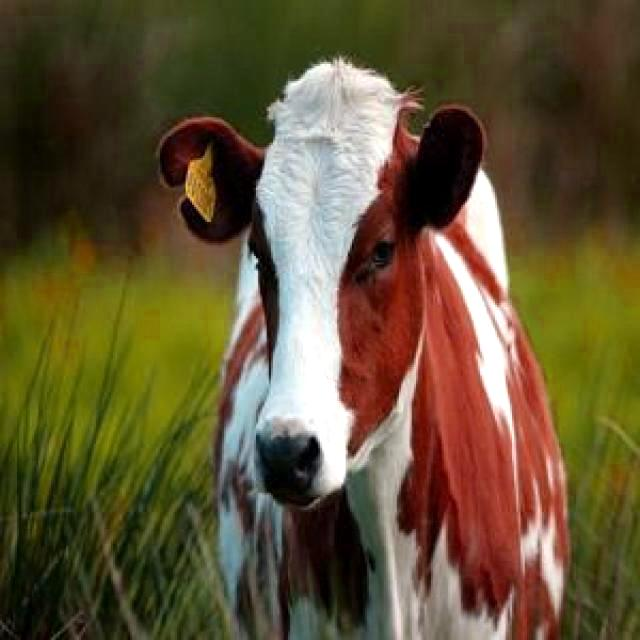COW: (160, 60, 569, 640)
